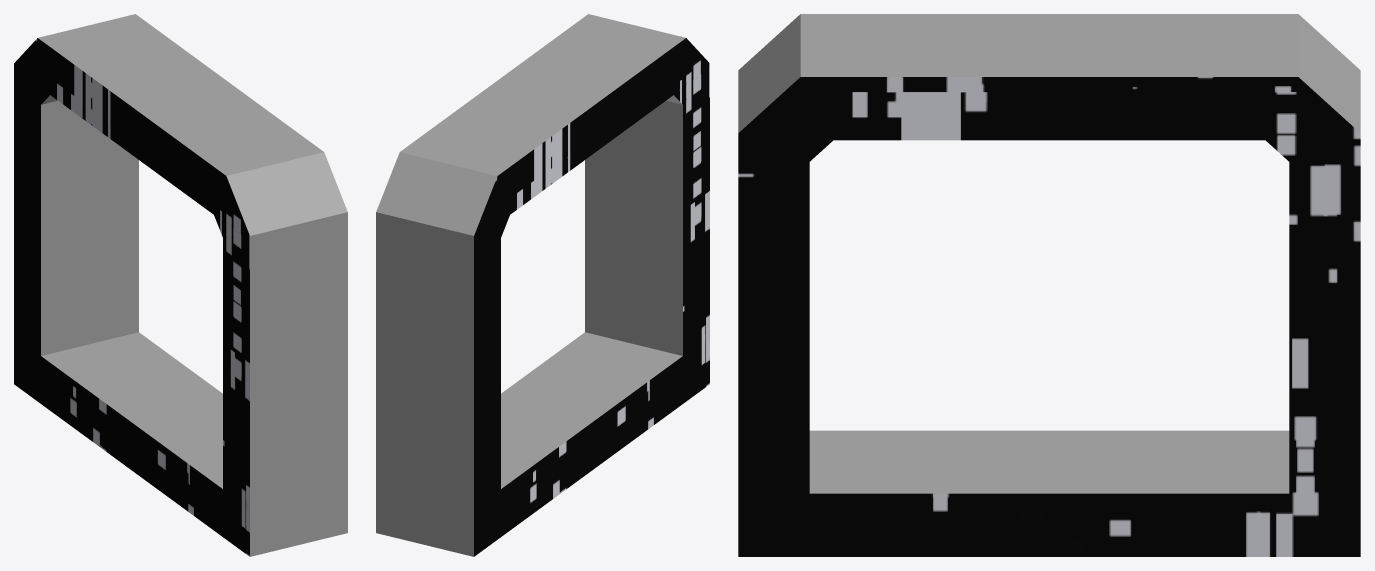
The model's file is Detail11.fbx.
The picture shows the model from 3 angles, left to right: view 1: azimuth 30°, elevation 25°; view 2: azimuth 150°, elevation 25°; view 3: azimuth 270°, elevation 25°; orthographic projection. The views are drawn at different scales.
Visible parts, largest first — view 1: Detail11; view 2: Detail11; view 3: Detail11.
Boxes of the visible parts, x1,y1,x2,y2 form: Detail11: (14,14,347,556); Detail11: (376,14,709,556); Detail11: (738,14,1360,556).
Size of the model in its own units: 0.1558 by 0.5533 by 0.6503.
3 materials, 1 textured.
